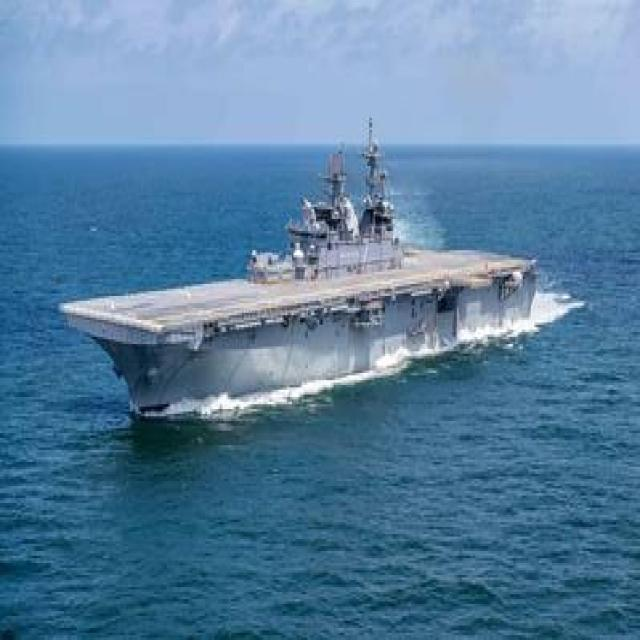navalvessels: (49, 151, 640, 433)
